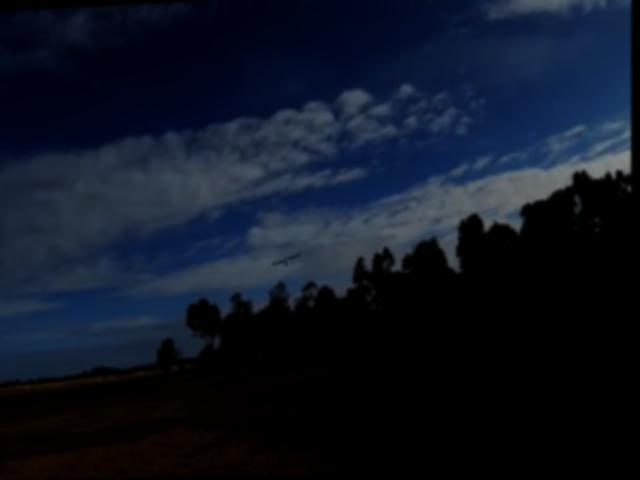uav: (265, 245, 310, 277)
